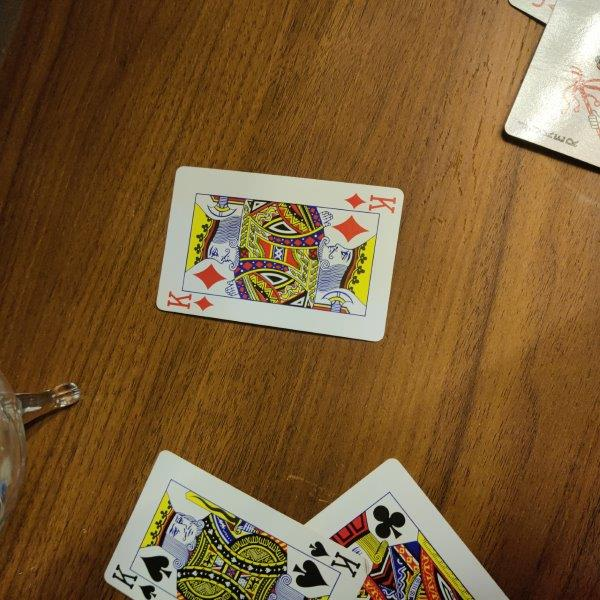King of Clubs: (303, 458, 509, 600)
King of Diamonds: (156, 166, 406, 345)
King of Spades: (104, 449, 371, 600)
